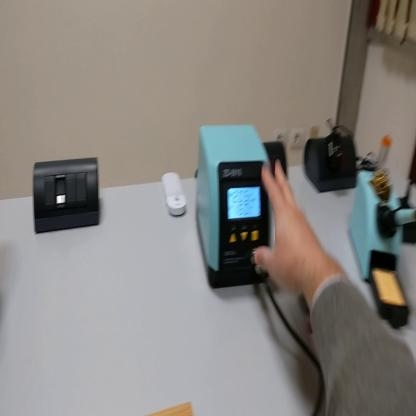hand: (254, 159, 317, 294)
socket: (304, 132, 358, 193), (263, 141, 288, 187)
welder base: (349, 171, 412, 330)
welder probe tip: (386, 205, 416, 234)
welder station: (200, 120, 276, 289)
working area: (152, 404, 193, 415)
